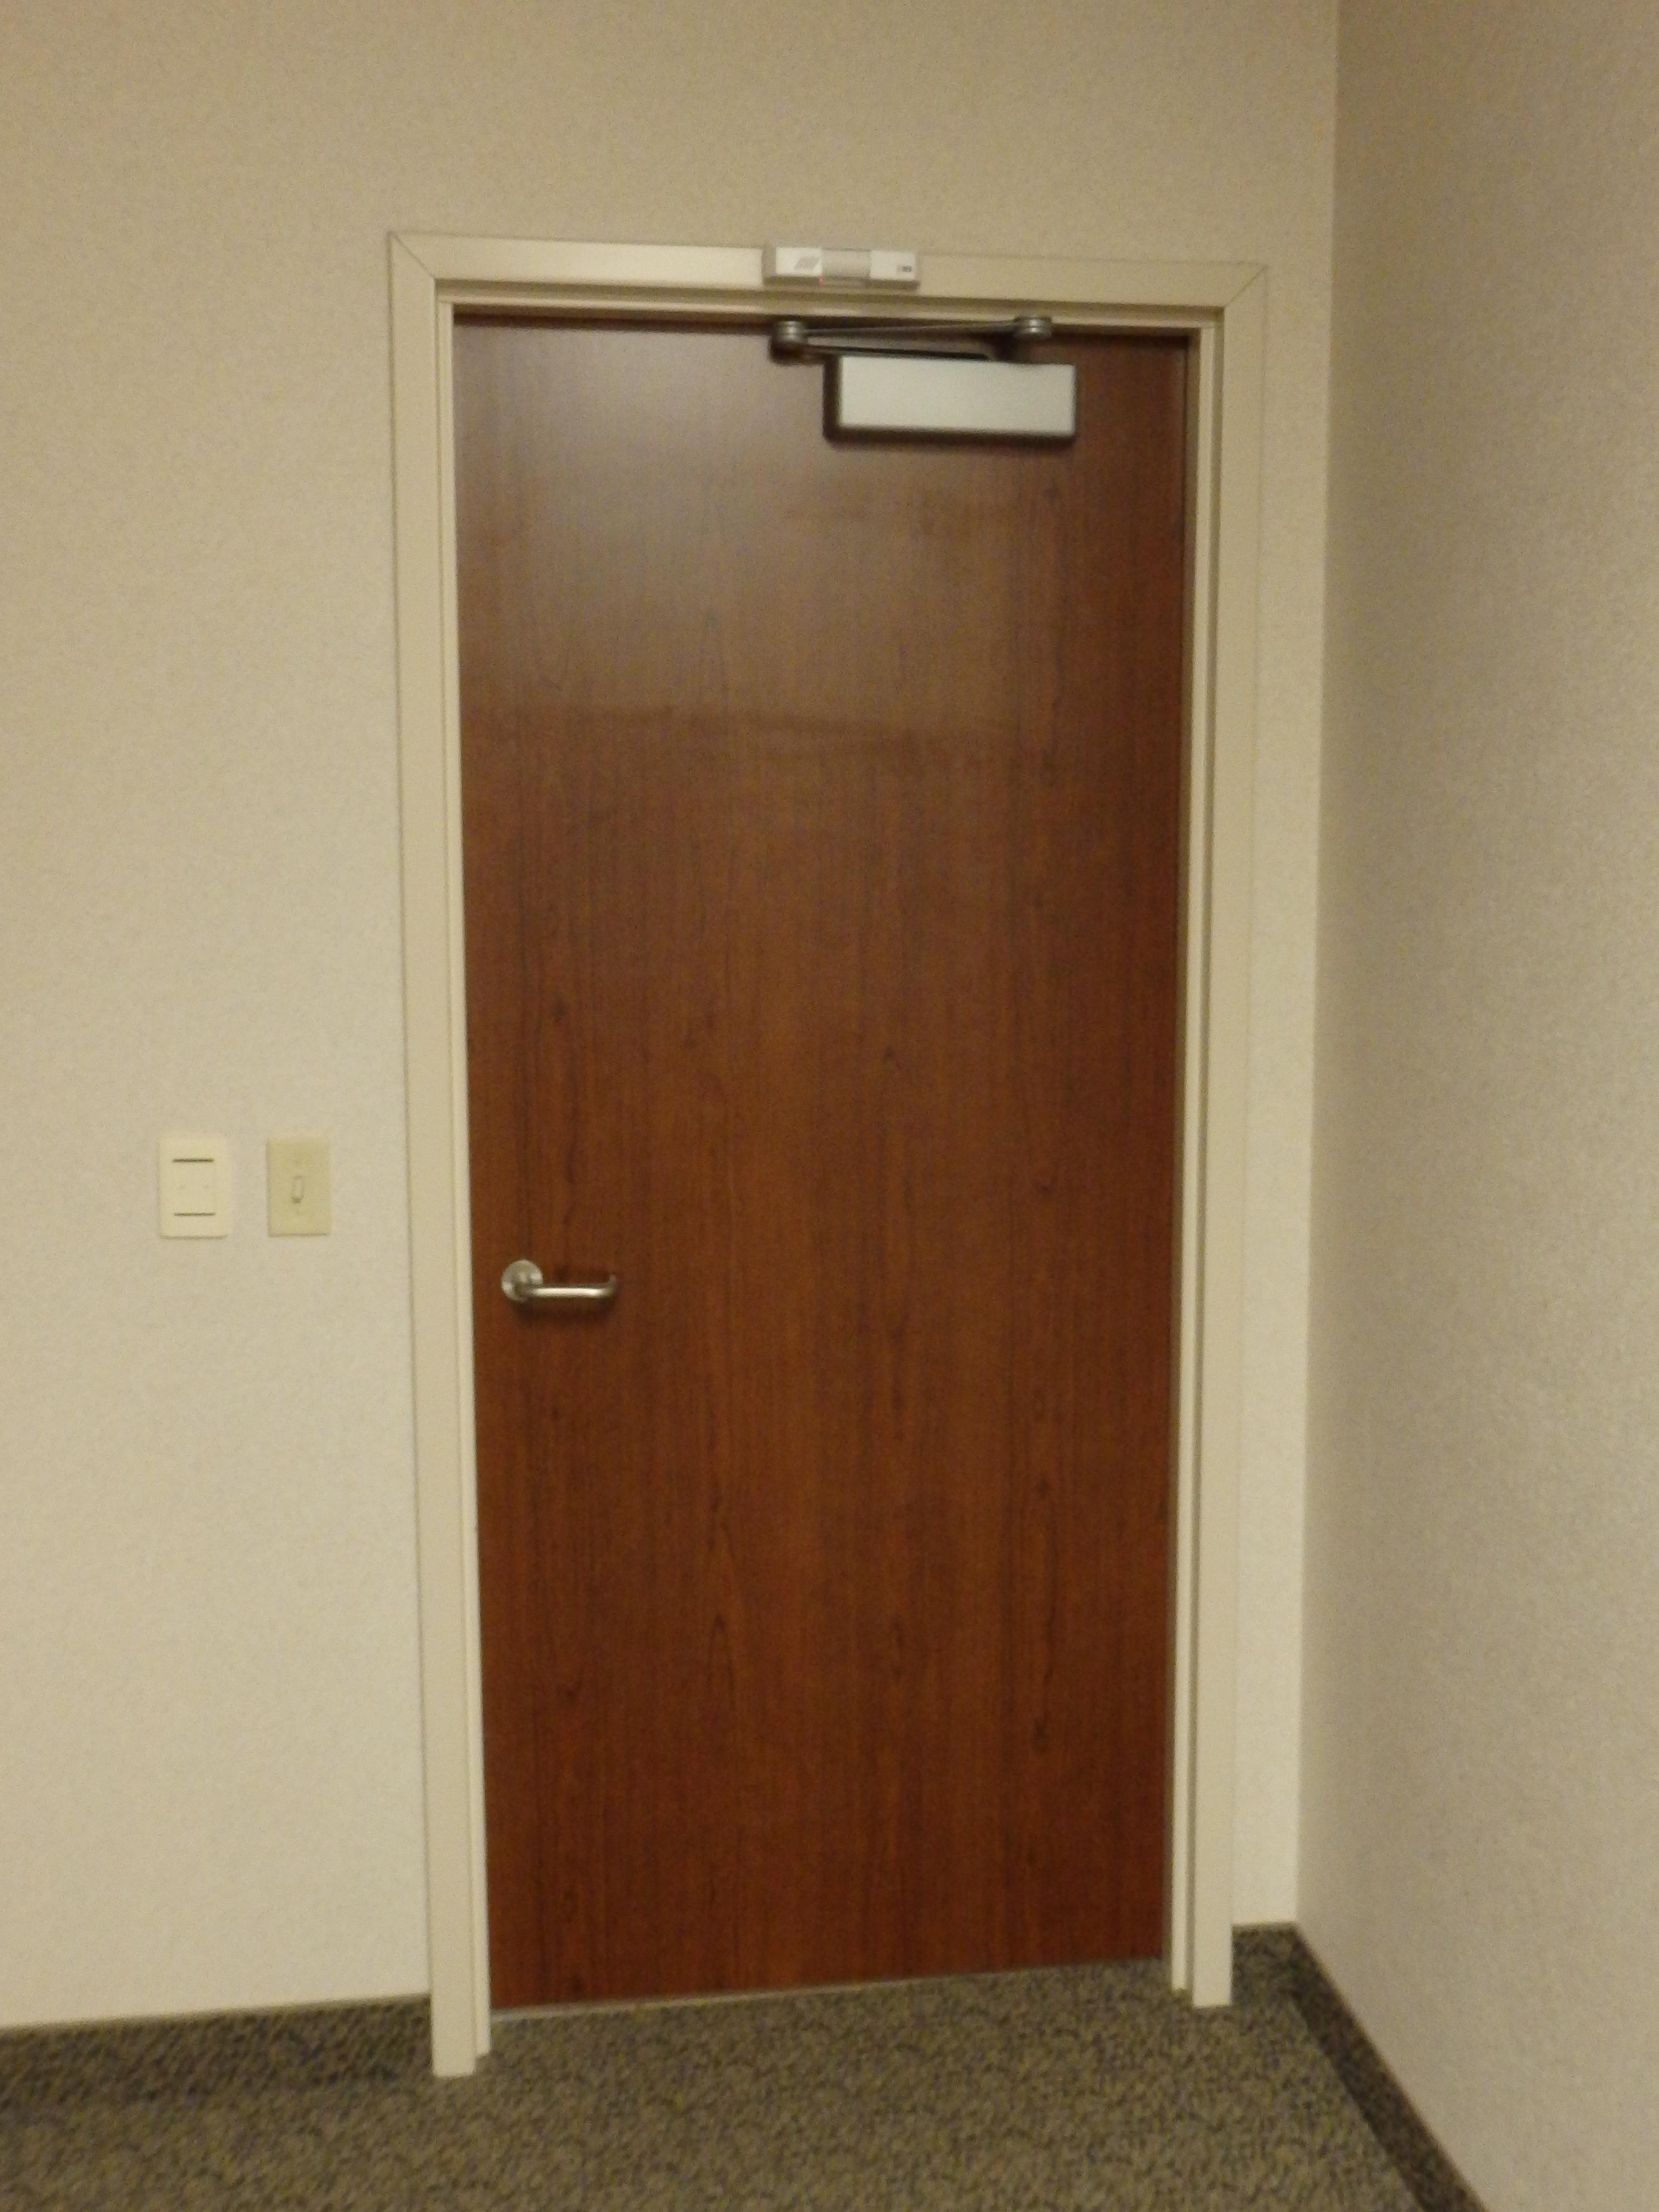door: (434, 282, 1211, 1987)
